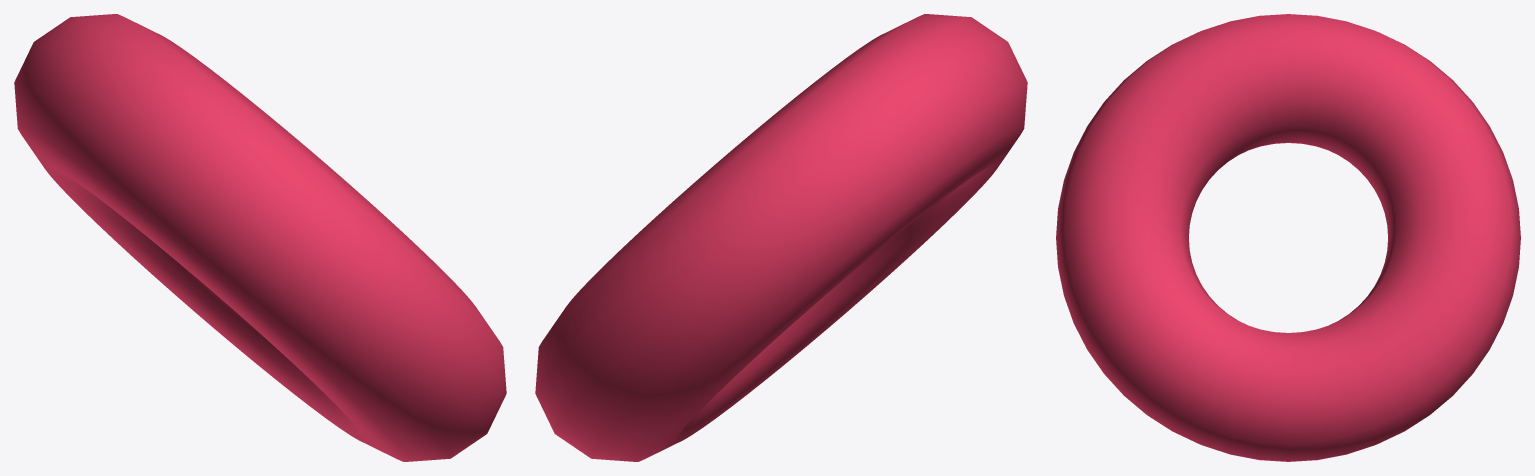
3 renders of one model, left to right at view 1: azimuth 30°, elevation 25°; view 2: azimuth 150°, elevation 25°; view 3: azimuth 270°, elevation 25°, orthographic. The views are drawn at different scales.
Parts seen in each view (by area): view 1: Torus.002; view 2: Torus.002; view 3: Torus.002.
Part boxes in pixels (x1,y1,x2,y2): Torus.002: (14, 14, 506, 461); Torus.002: (535, 14, 1027, 461); Torus.002: (1056, 14, 1520, 461).
Bounding box in the file's own units: 2.1 × 2.29 × 2.8.
